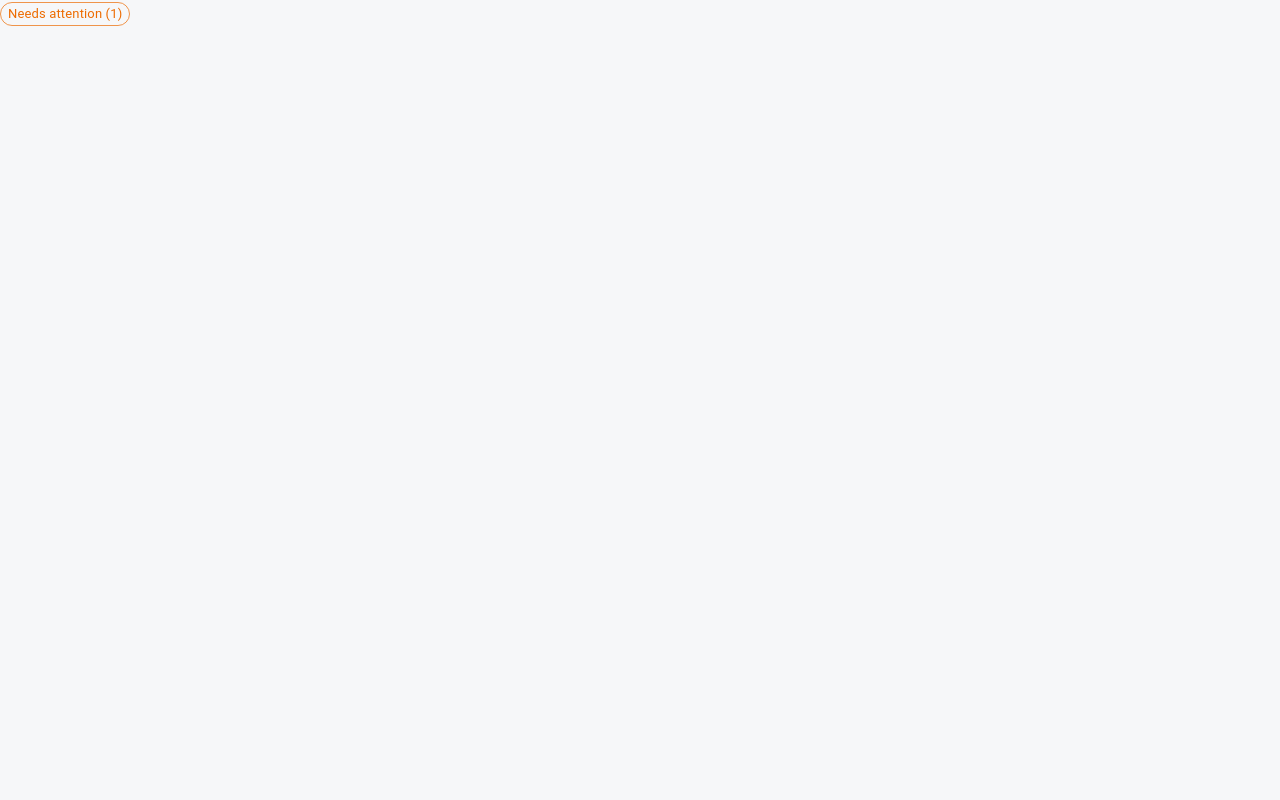
Test: HealthChip › a health check that broke says so, and still shows the last reading
The image size is (1280, 800).
Step 1. Click the button with test id "health-chip" → click(65, 14), box [0,2,130,26]
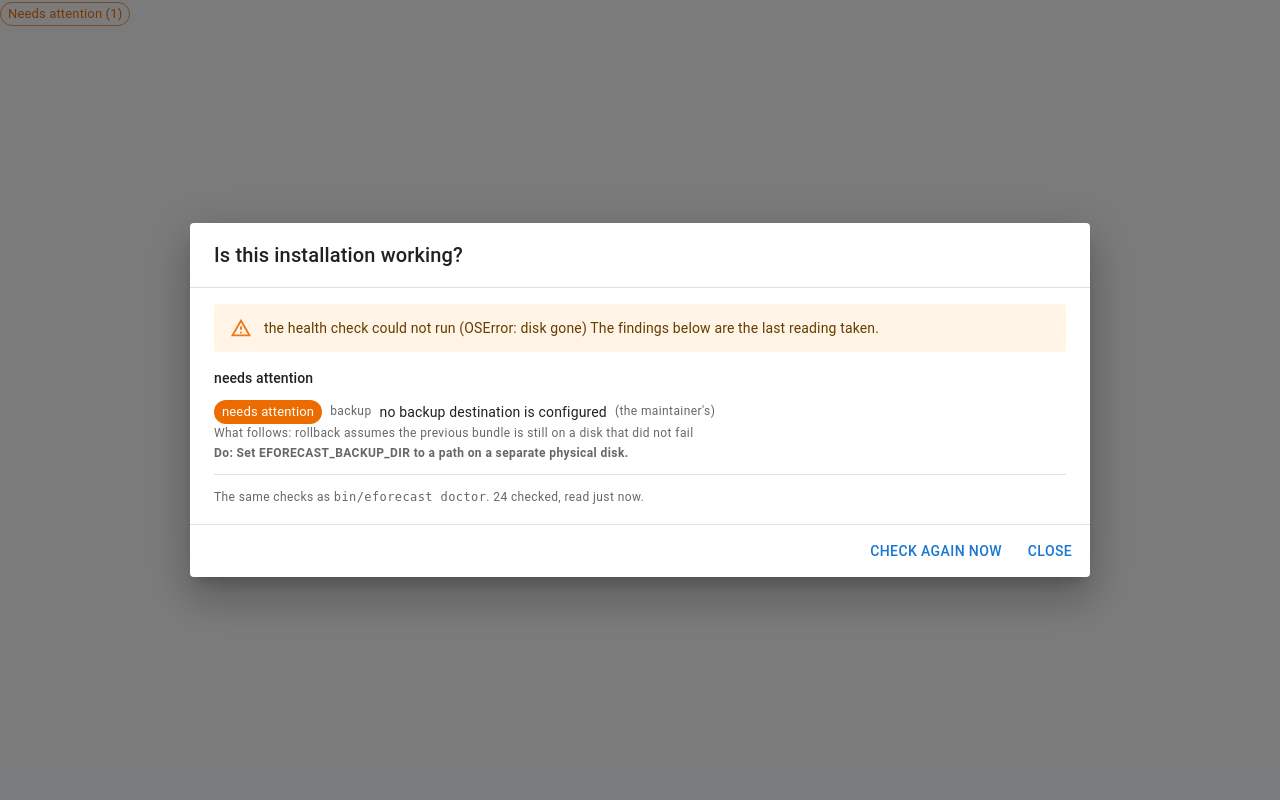
expect the message with test id "health-unavailable" shows "disk gone": met, box [264,320,587,336]
expect the message with test id "health-unavailable" shows "last reading taken": met, box [587,320,879,336]
expect the list item with test id "health-finding-backup" is shown: met, box [214,400,715,460]
